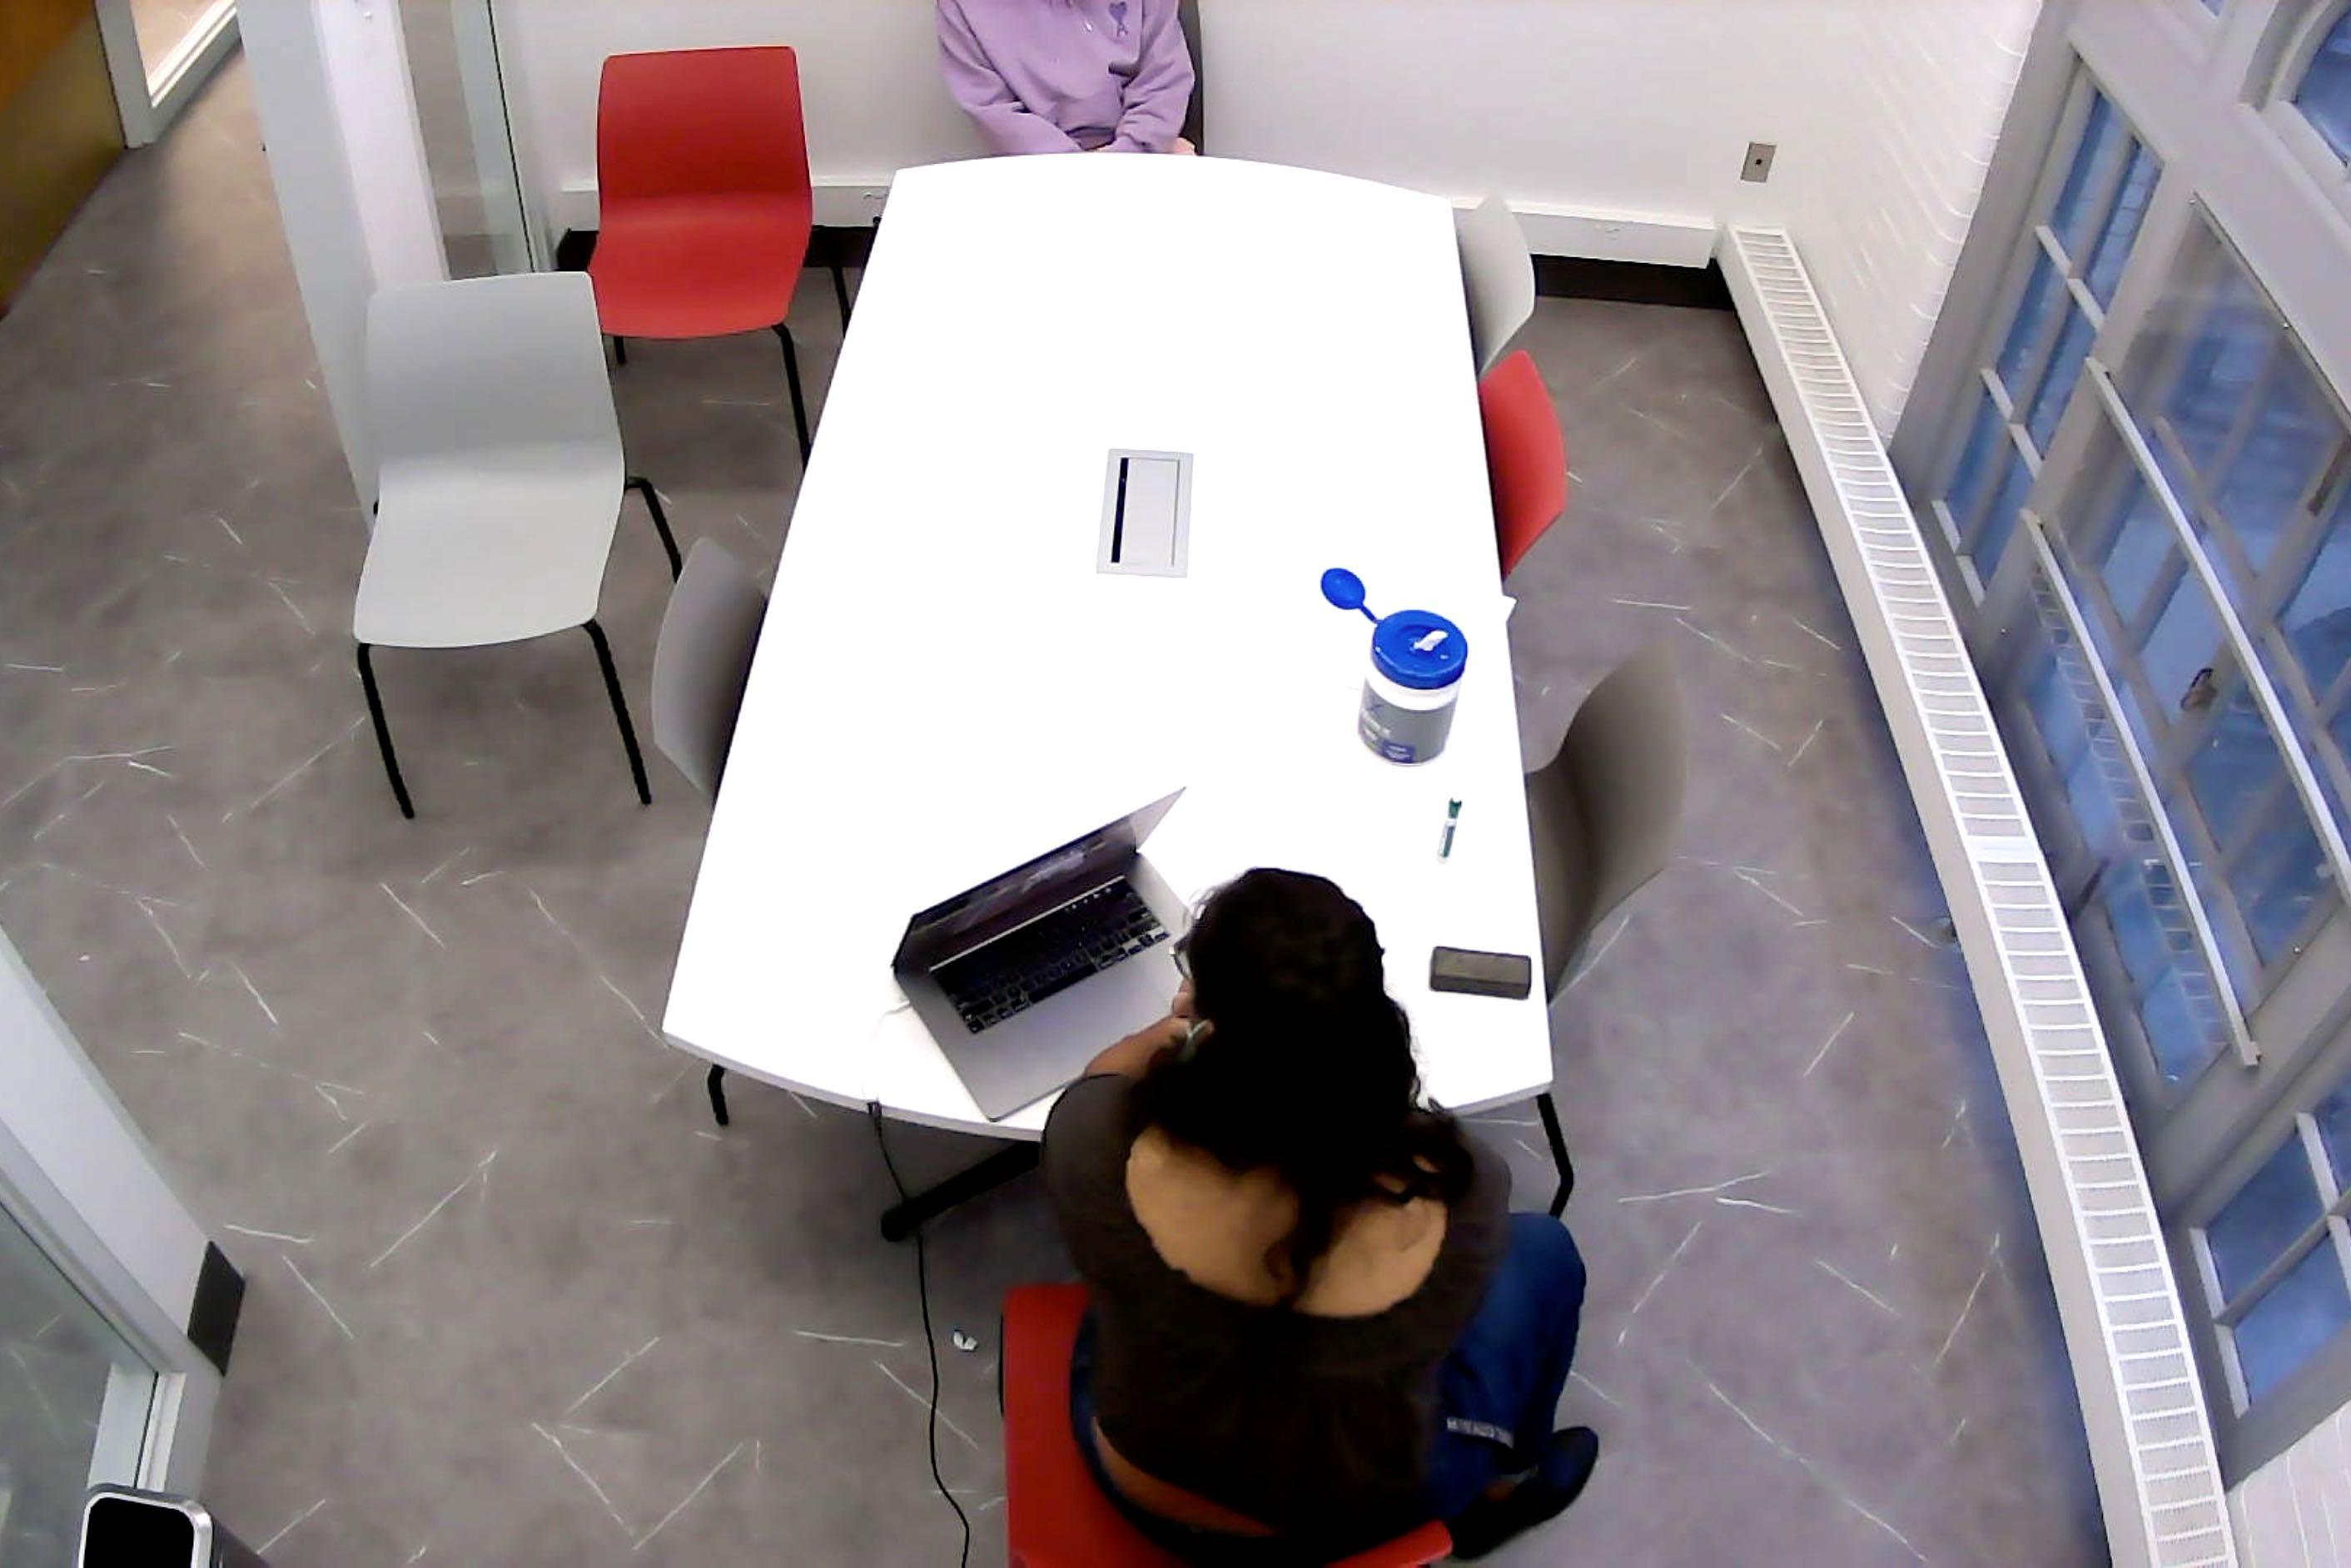Chair: (355, 268, 688, 814), (997, 1278, 1457, 1568), (592, 43, 858, 476), (1524, 624, 1688, 1215), (650, 533, 773, 1132), (1480, 350, 1568, 574), (1459, 196, 1540, 383)
Dining Table: (660, 148, 1555, 1238)
Person: (1035, 864, 1597, 1568), (929, 0, 1224, 165)
